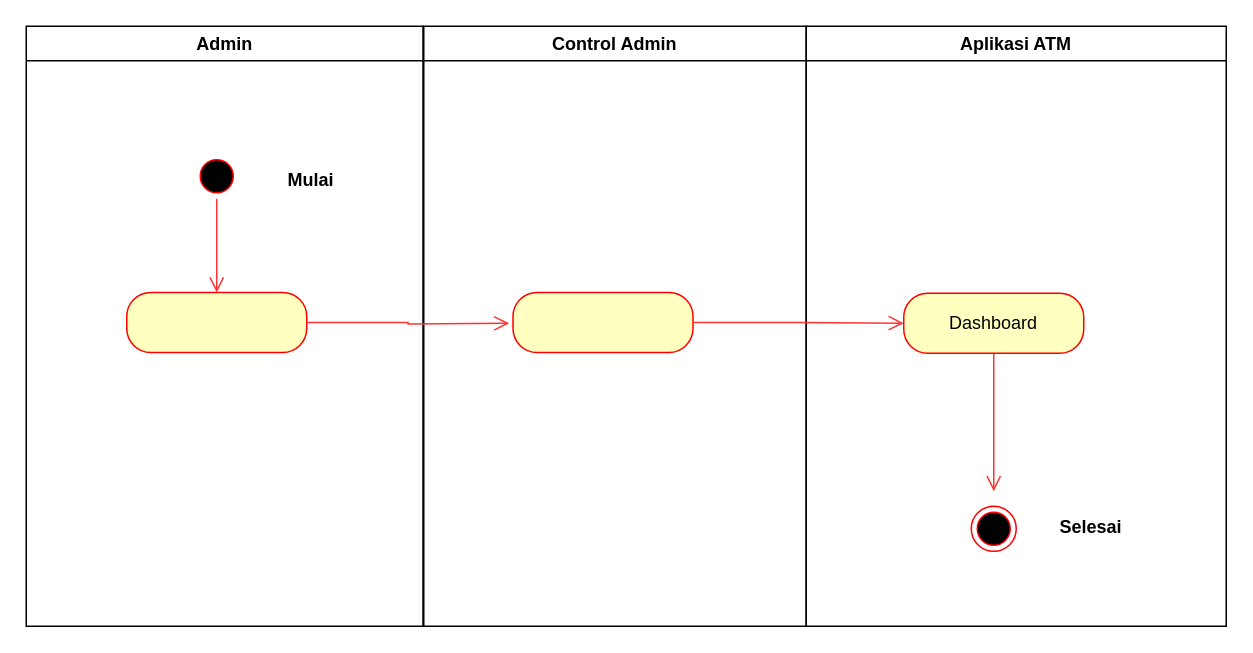
Some shapes in this 1253 by 653 pixel diagram are drawn without their labels. The shapes that lost their labels are listed below. From the top down, each one's centre as x and y in pixels, then its label:
At (x=216, y=321): "Tekan menu Dashboard".
At (x=602, y=321): "loading Dashboard".
